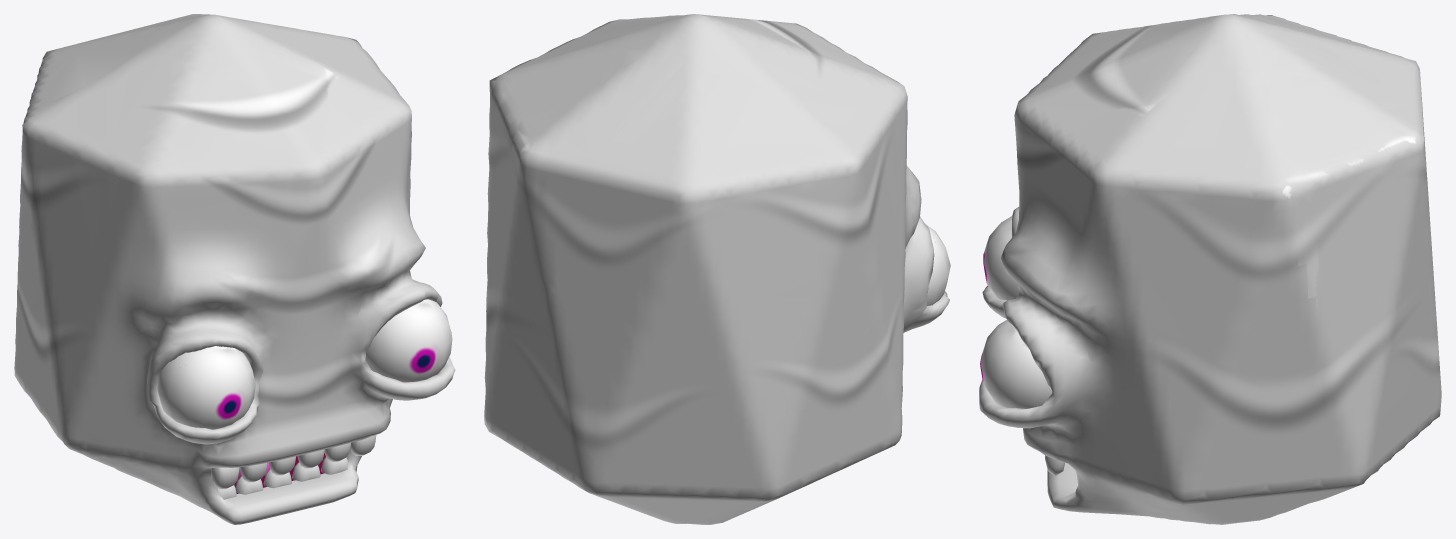
Rendered from virus5.body.gltf.
3 views of the same model, side by side, from view 1: azimuth 30°, elevation 25°; view 2: azimuth 150°, elevation 25°; view 3: azimuth 270°, elevation 25° (orthographic). The views are drawn at different scales.
Parts seen in each view (by area): view 1: virus5.body.mesh; view 2: virus5.body.mesh; view 3: virus5.body.mesh.
Boxes of the visible parts, x1,y1,x2,y2 form: virus5.body.mesh: [14, 14, 455, 524]; virus5.body.mesh: [484, 14, 950, 524]; virus5.body.mesh: [979, 14, 1441, 524].
Bounding box in the file's own units: 2.96 × 3.78 × 3.27.
5 materials, 2 textured.
